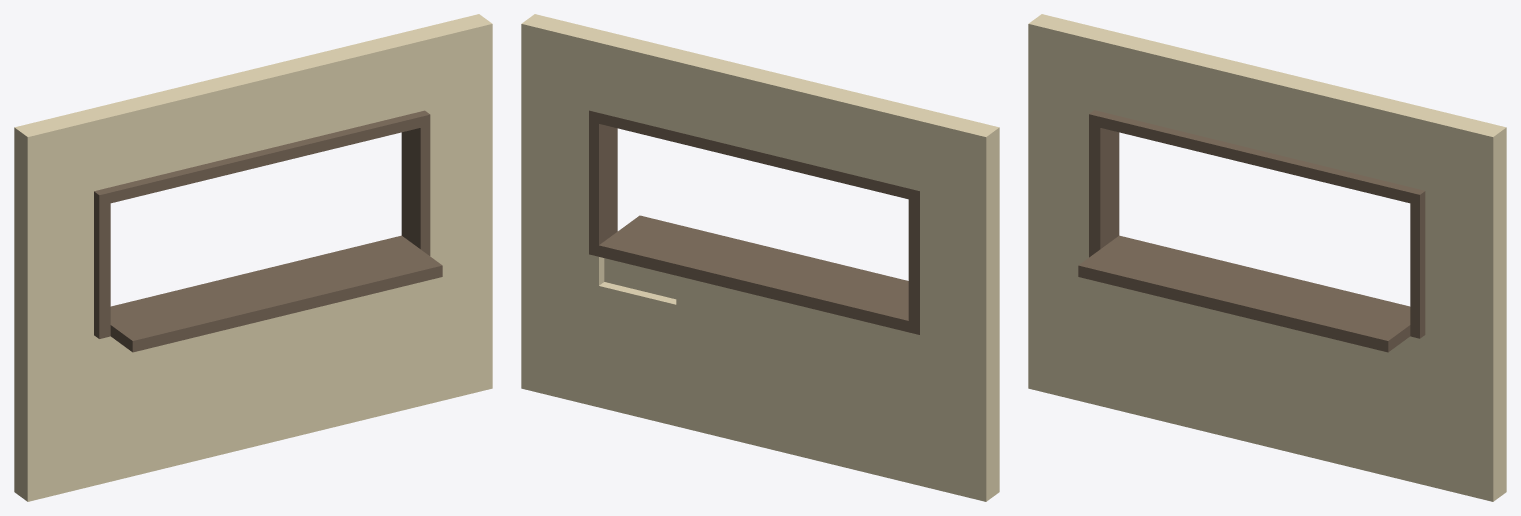
File: kabe01.fbx
3 renders of one model, left to right at view 1: azimuth 30°, elevation 25°; view 2: azimuth 150°, elevation 25°; view 3: azimuth 330°, elevation 25°, orthographic.
Parts seen in each view (by area): view 1: pCube1; view 2: pCube1; view 3: pCube1.
Boxes of the visible parts, box(x1,y1,x2,y2) form: pCube1: box(14, 14, 492, 501); pCube1: box(521, 14, 999, 501); pCube1: box(1028, 14, 1506, 501).
Bounding box in the file's own units: 20 × 15 × 3.05.
